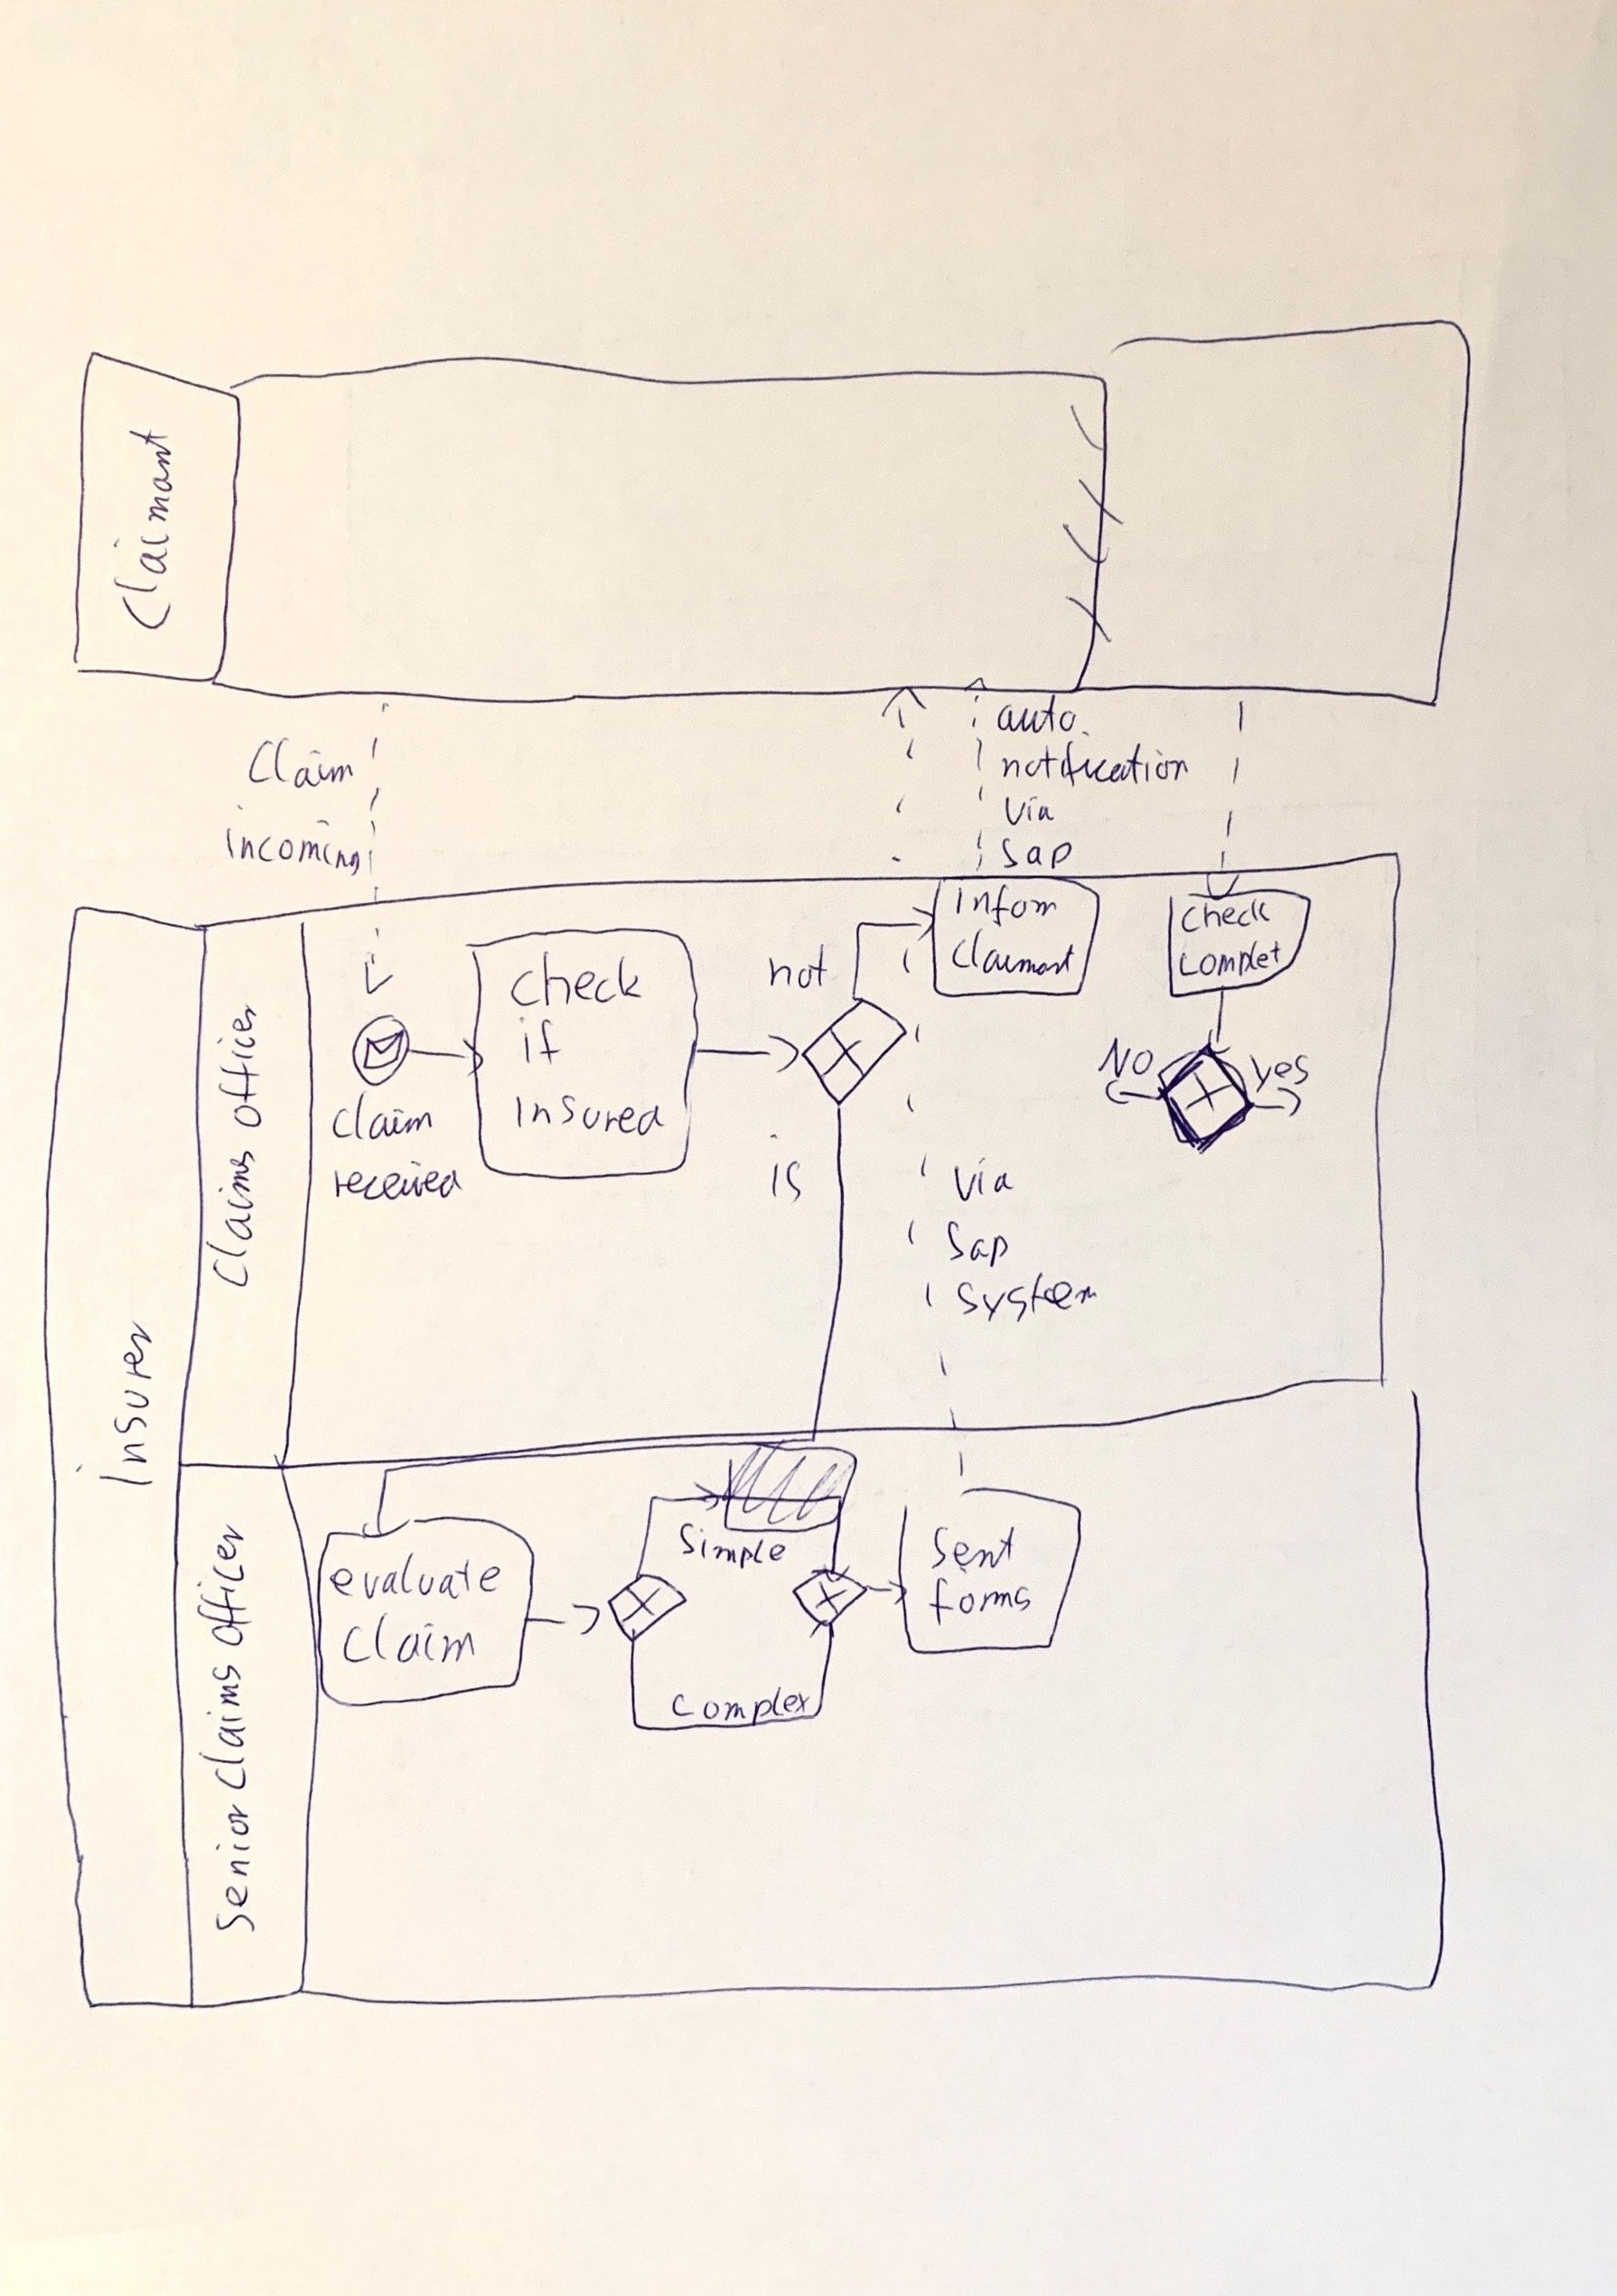Claim: (250, 733, 364, 803)
Claimant: (114, 425, 182, 632)
Insured: (509, 1092, 670, 1139)
NO: (1095, 1032, 1158, 1080)
Sap: (938, 1216, 1013, 1267)
Senior: (205, 1804, 264, 1939)
Sent: (926, 1528, 1022, 1573)
Simple: (674, 1521, 793, 1571)
System: (952, 1274, 1099, 1323)
auto: (999, 703, 1078, 738)
check: (507, 948, 642, 1015), (1185, 901, 1270, 936)
claim: (339, 1617, 479, 1668), (327, 1099, 436, 1143)
claimant: (943, 933, 1078, 983)
claims: (205, 1136, 261, 1290), (201, 1661, 257, 1795)
complet: (1176, 938, 1283, 976)
complex: (667, 1689, 810, 1727)
evaluate: (329, 1556, 506, 1605)
forms: (927, 1577, 1038, 1626)
if: (520, 1022, 563, 1066)
incoming: (217, 801, 364, 873)
inform: (943, 884, 1062, 927)
insurer: (75, 1321, 173, 1496)
is: (763, 1132, 808, 1202)
not: (765, 947, 828, 992)
notification: (999, 742, 1193, 789)
officer: (198, 1526, 252, 1650), (212, 1001, 262, 1129)
received: (329, 1167, 464, 1204)
sap: (996, 833, 1073, 873)
via: (955, 1158, 1013, 1200), (999, 789, 1057, 828)
yes: (1246, 1046, 1314, 1099)
